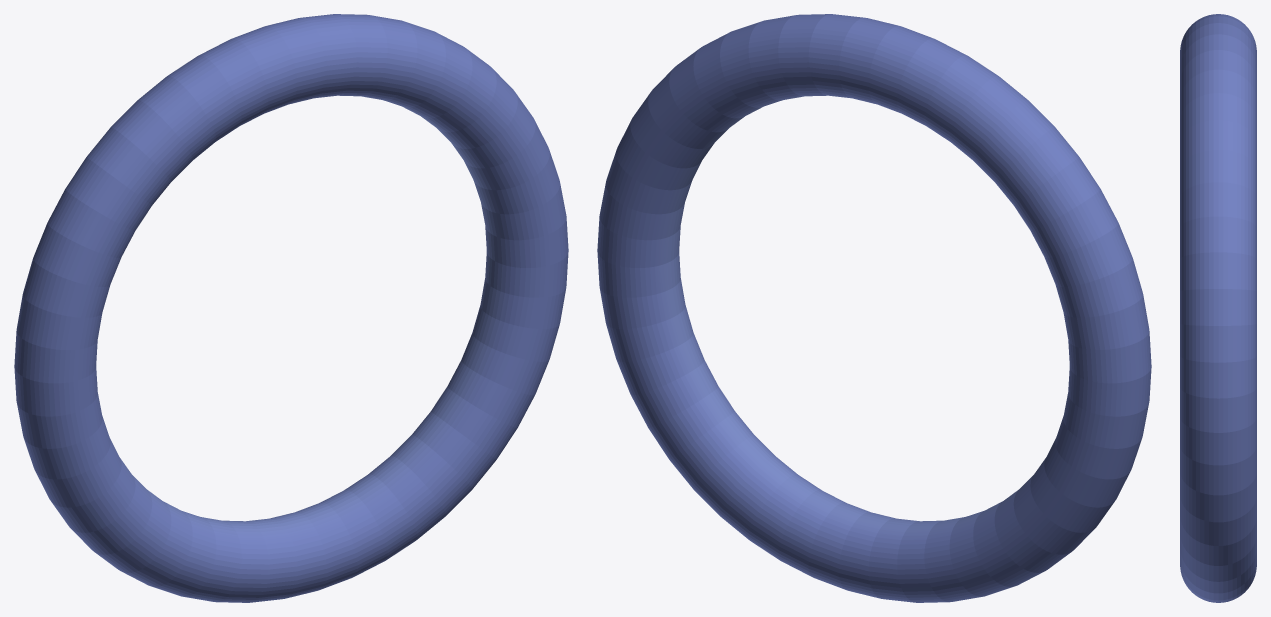
The picture shows the model from 3 angles, left to right: view 1: azimuth 30°, elevation 25°; view 2: azimuth 150°, elevation 25°; view 3: azimuth 270°, elevation 25°; orthographic projection. The views are drawn at different scales.
Parts seen in each view (by area): view 1: world; view 2: world; view 3: world.
Part boxes in pixels (x1,y1,x2,y2): world: (14, 14, 568, 602); world: (597, 14, 1151, 602); world: (1180, 14, 1256, 602).
Bounding box in the file's own units: 21.47 × 21.42 × 2.79.
